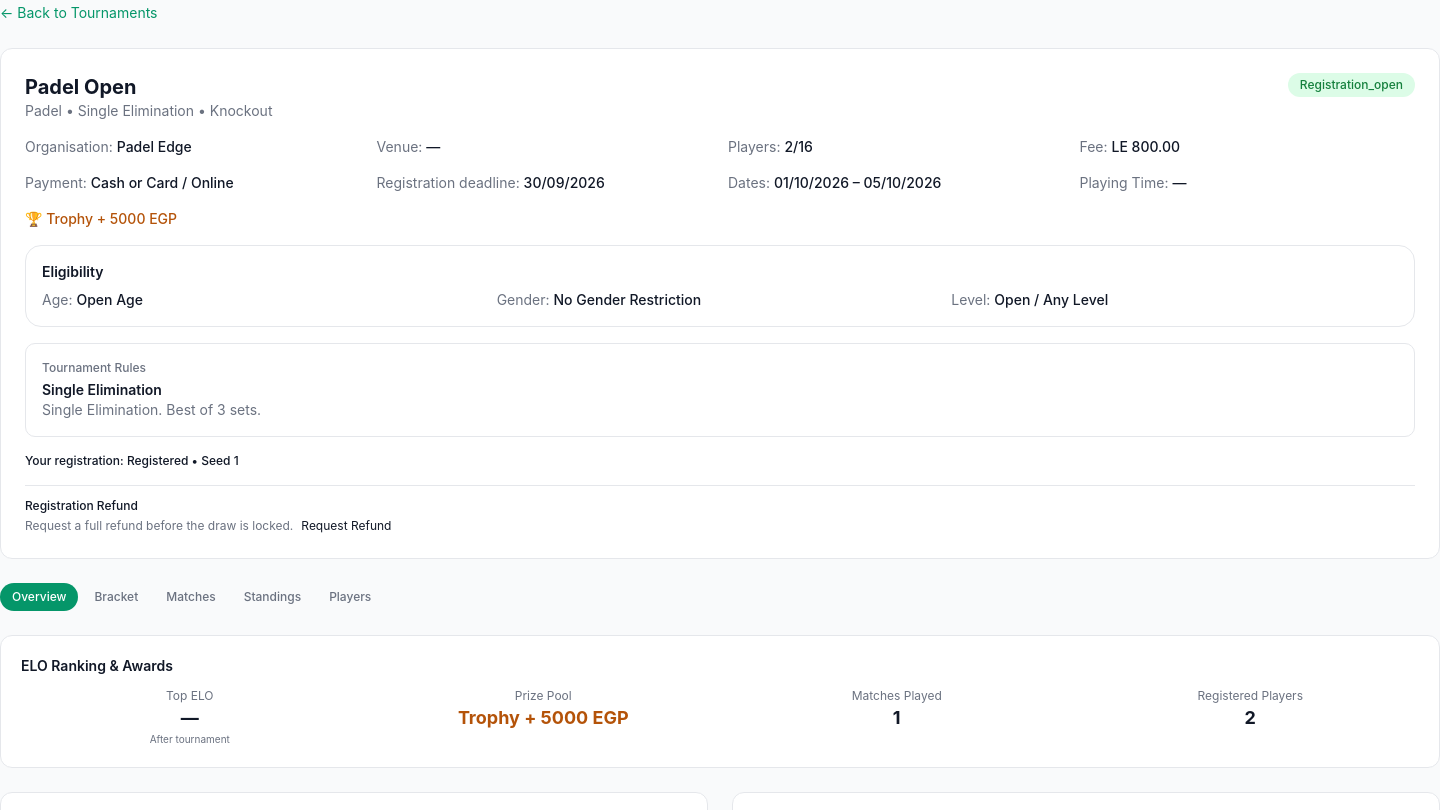
Test case: TournamentDetailPage — player detail authoritative contract (Group 1B) › renders participants with player_id, seed_rank and status
Expected: the heading "Padel Open" is shown, [25, 75, 136, 99]
Click the tab "Players" at (350, 597), box [317, 583, 383, 611]
(page scrolled)
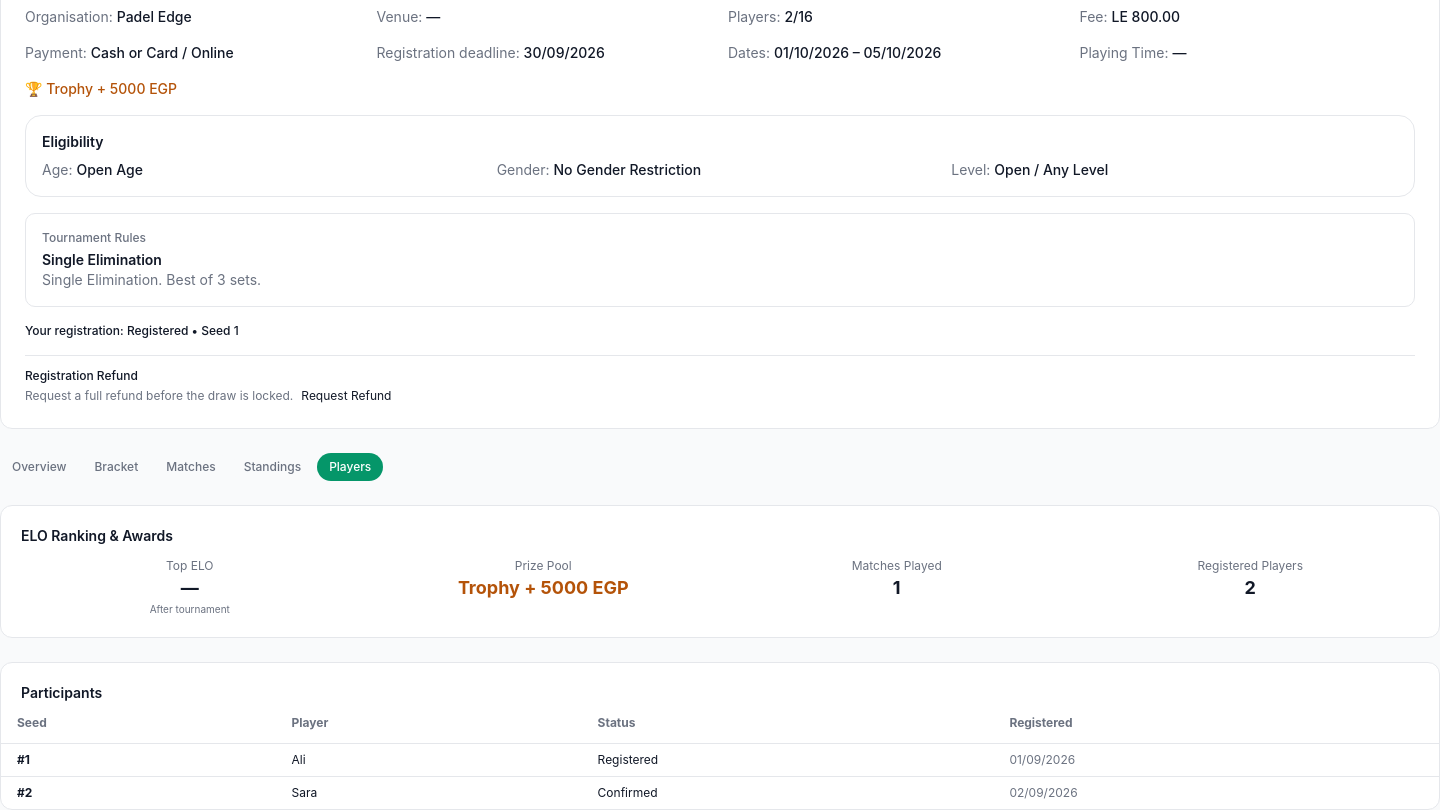
Expected: the text "Ali" is shown, [276, 744, 582, 776]
Expected: the text "Sara" is shown, [276, 776, 582, 809]
Expected: the text "#1" is shown, [1, 744, 276, 776]
